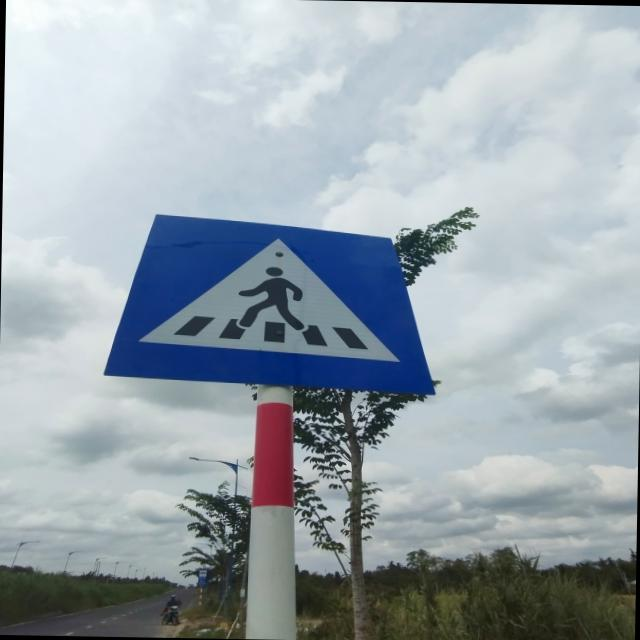Giao_Nhau_Duong_Uu_Tien: (104, 212, 438, 394)
